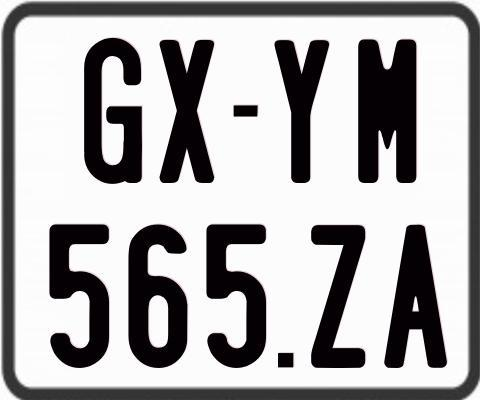5: (48, 224, 111, 370), (206, 224, 266, 371)
6: (127, 221, 186, 368)
A: (383, 223, 452, 366)
G: (81, 38, 139, 190)
M: (358, 38, 421, 185)
X: (159, 37, 217, 186)
Y: (274, 37, 330, 182)
Z: (308, 222, 363, 368)
